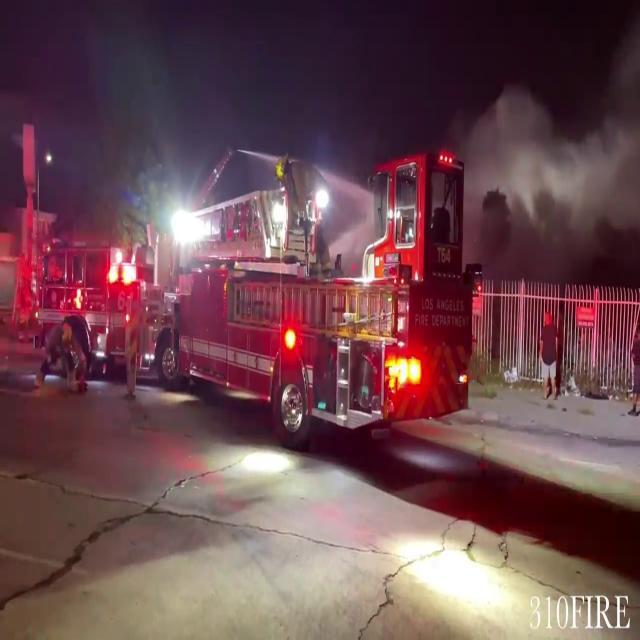Smoke: (485, 0, 640, 267)
